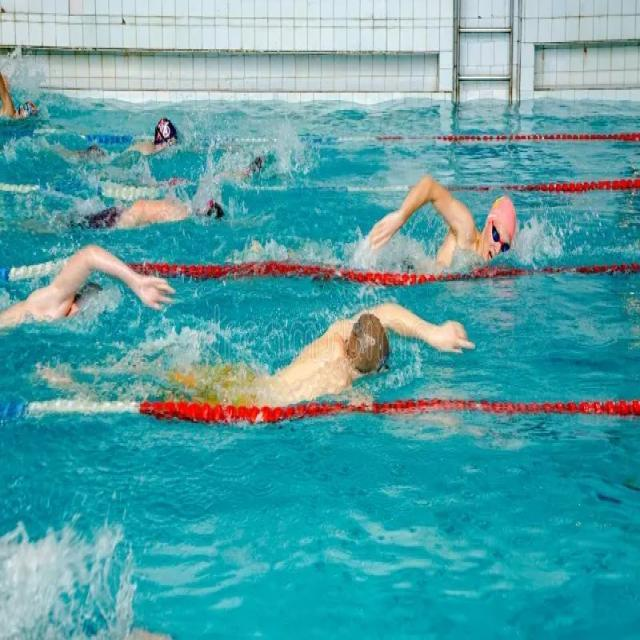Swimming: (176, 303, 476, 400), (368, 175, 520, 274), (7, 243, 180, 325), (48, 179, 240, 229), (80, 116, 190, 159), (0, 68, 48, 123)
